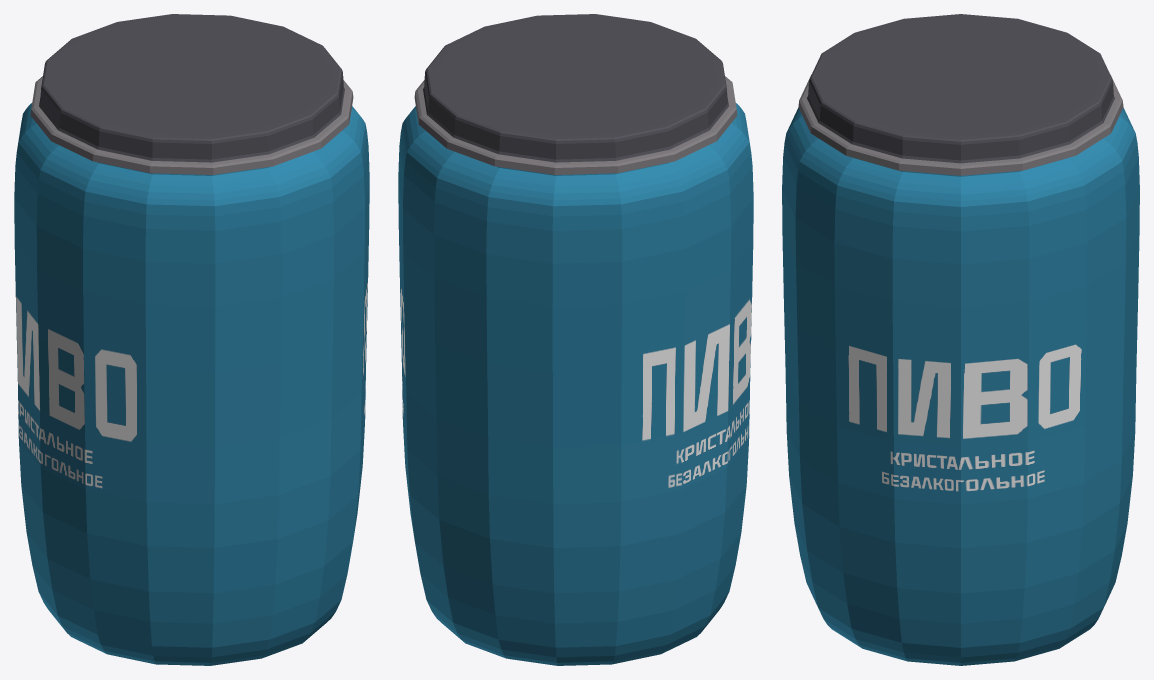
Rendered from barell3.fbx.
The picture shows the model from 3 angles, left to right: view 1: azimuth 30°, elevation 25°; view 2: azimuth 150°, elevation 25°; view 3: azimuth 270°, elevation 25°; orthographic projection.
Parts seen in each view (by area): view 1: Cube; view 2: Cube; view 3: Cube.
Part boxes in pixels (<box>): Cube: <box>14,14,369,665</box>; Cube: <box>398,14,753,665</box>; Cube: <box>782,14,1139,665</box>.
Size of the model in its own units: 376 by 615 by 376.
